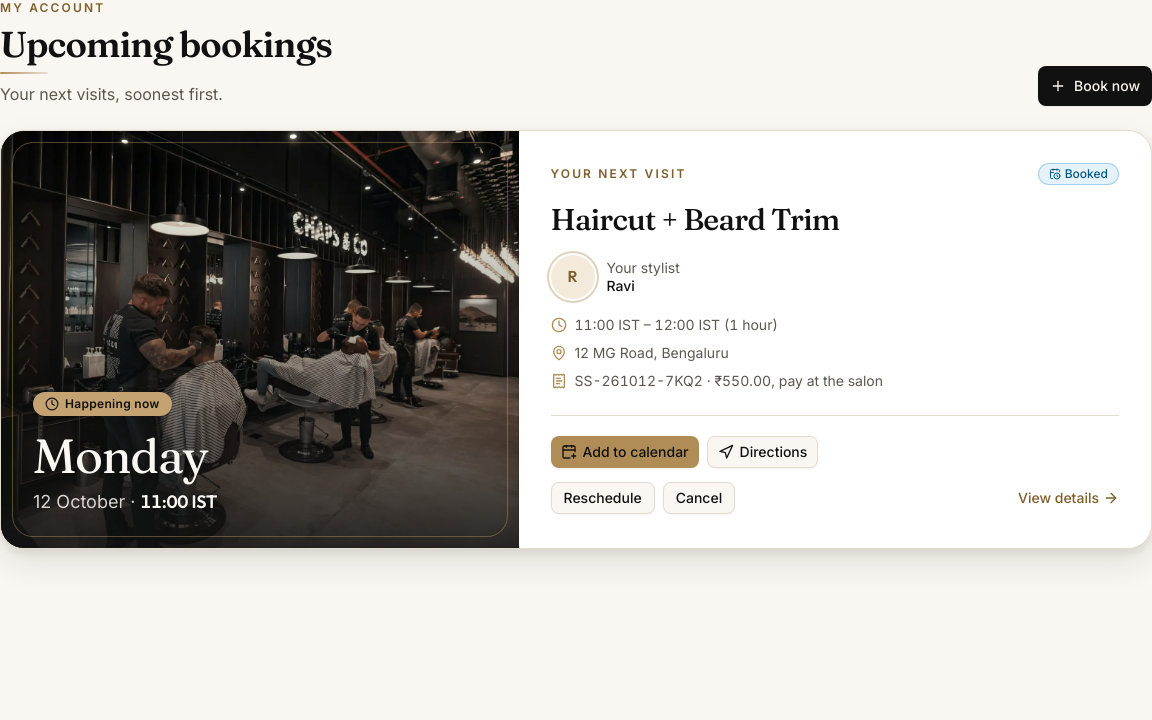
Test case: customer account (05 §4.2) › cancels with an optional reason (API-055, FR-035)
This screenshot has width=1152, height=720.
Click the button "Cancel". click: (699, 498)
box: top-left (663, 482), bottom-right (735, 514)
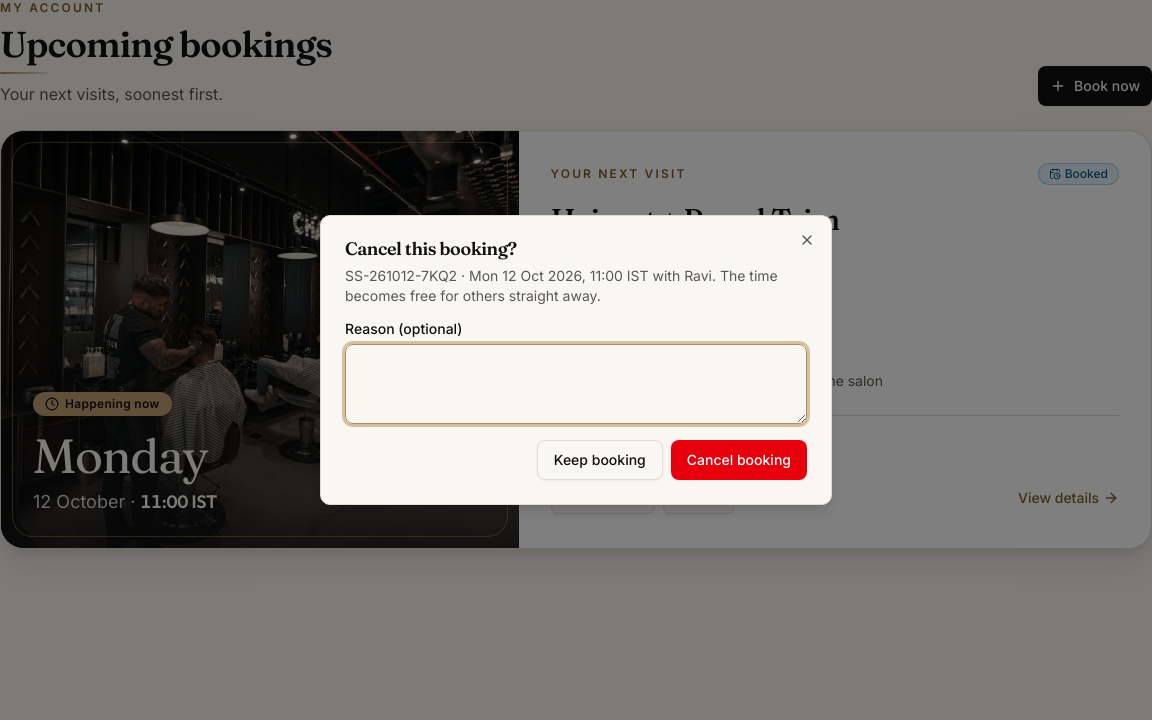
Type "Travelling" into the text box labelled "Reason (optional)". click: (576, 384)
box: top-left (345, 344), bottom-right (807, 424)
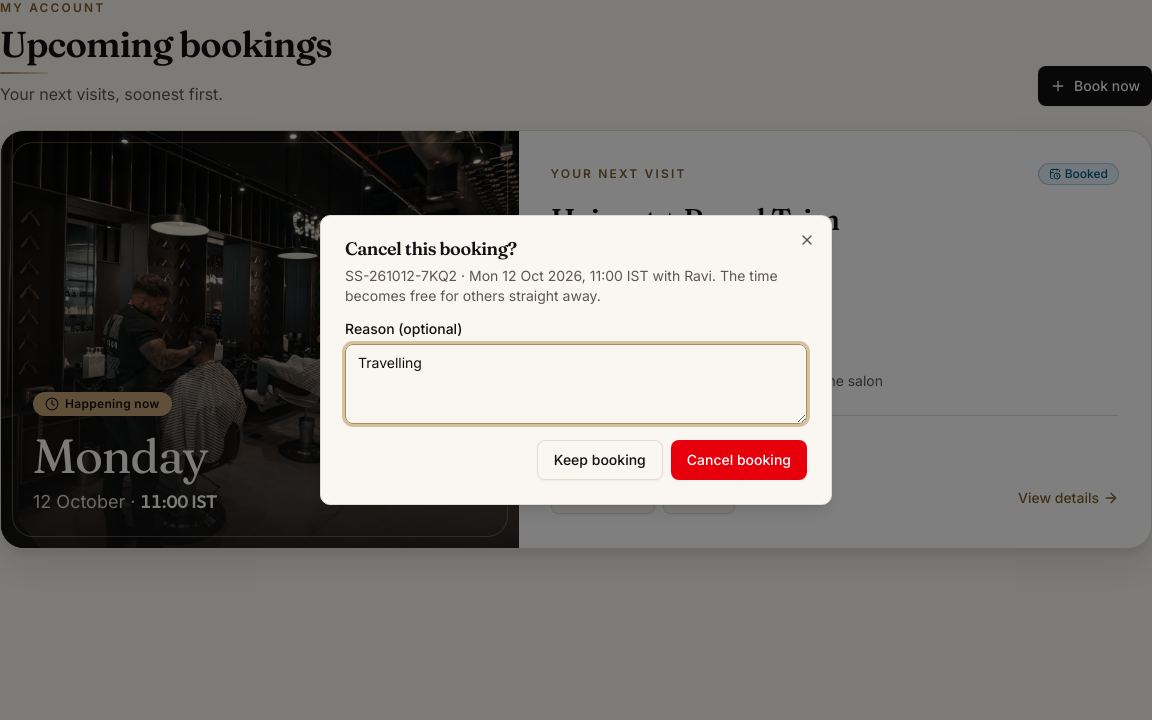
Click the button "Cancel booking". click: (739, 460)
box: top-left (671, 440), bottom-right (807, 480)
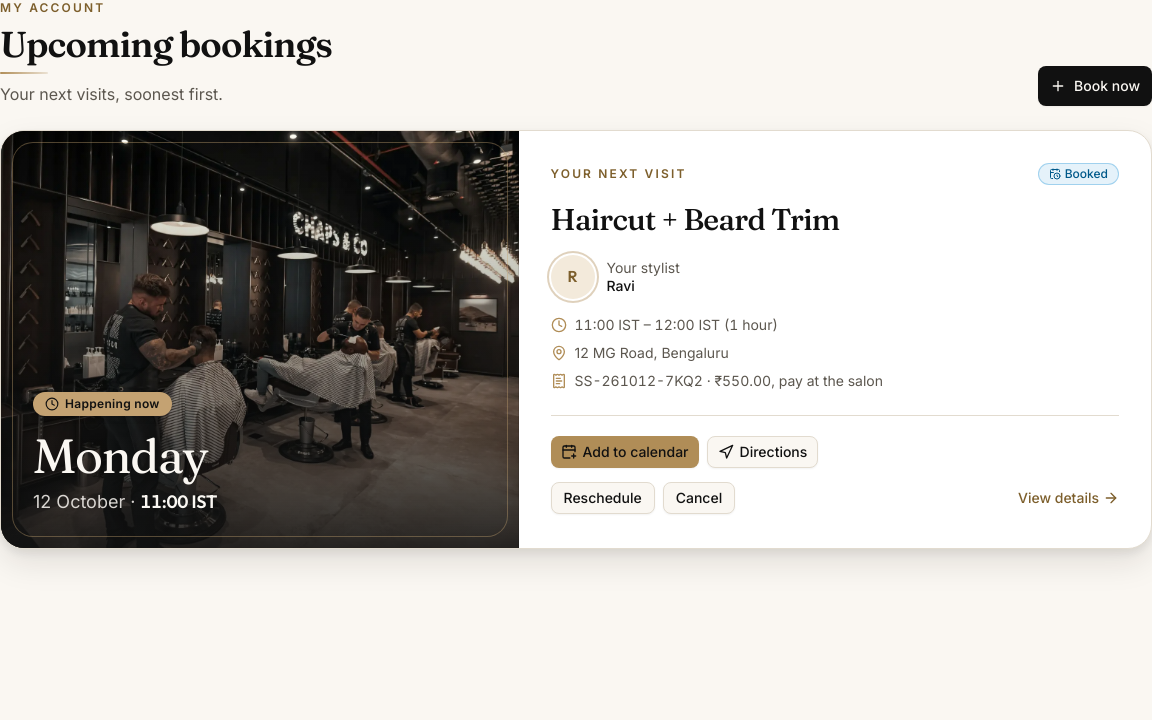
Expected: the dialog is gone
